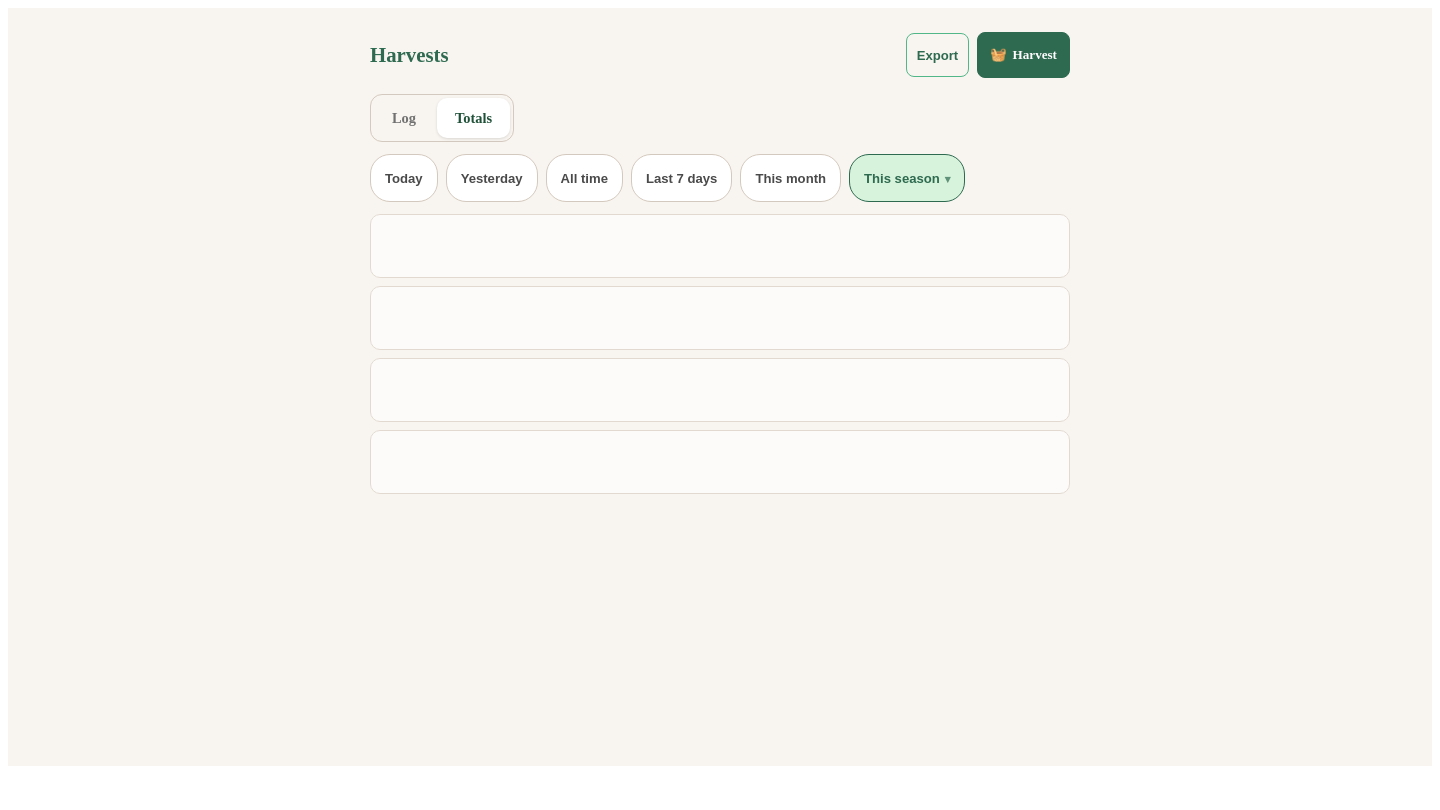
Test: Harvests — weight chip › a quantified row with NO derivable weight reads as "not yet", never 0 g
The image size is (1440, 810).
Step 1. Click the radio button labelled "Log" → (404, 118), box [374,98,434,138]
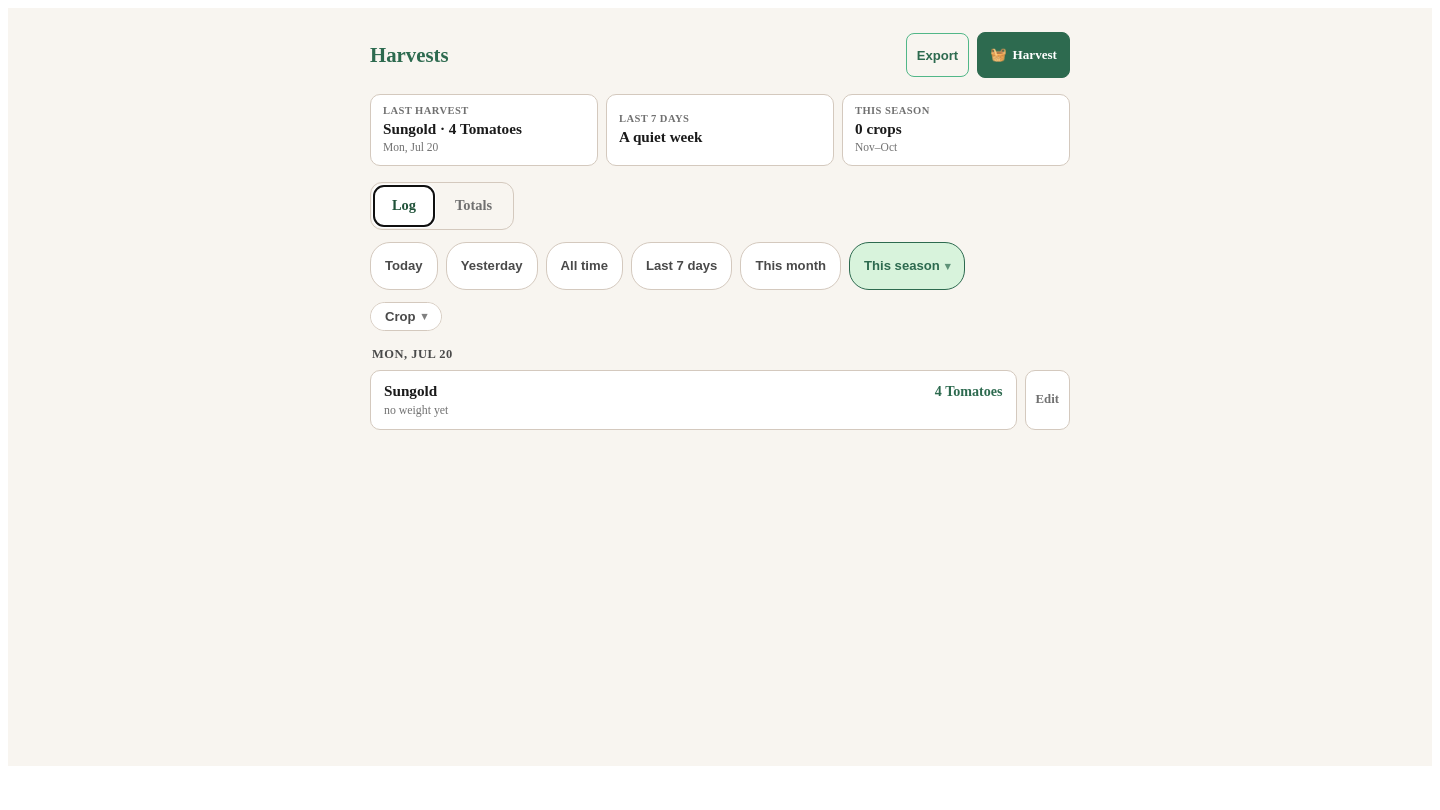
expect the text with test id "harvest-weight-none" reads "no weight yet": met, box [384,403,448,417]
